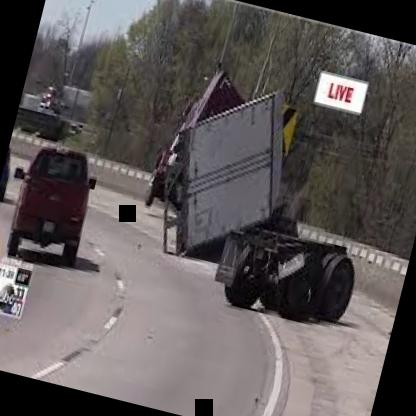accident: (90, 39, 400, 354)
